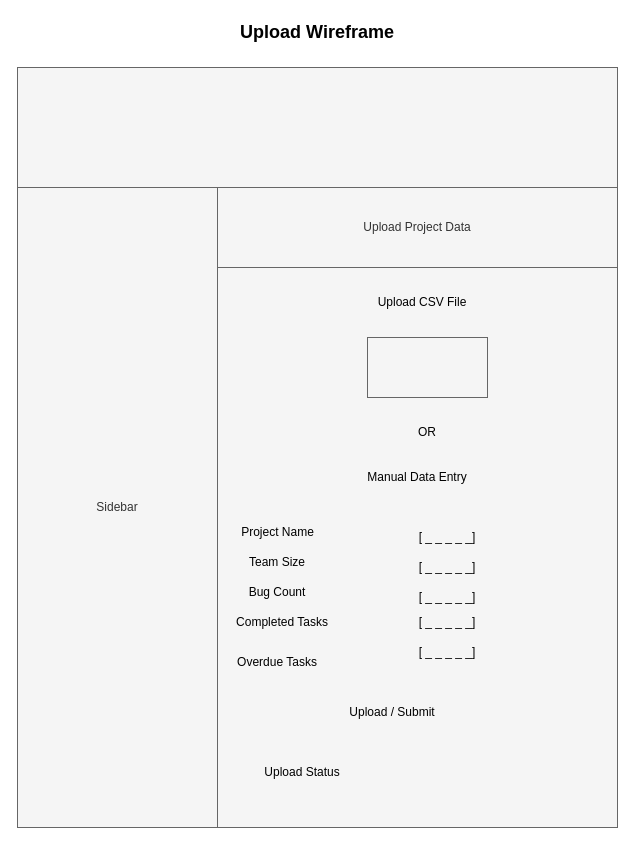
The diagram is 635 pixels wide and 845 high, and some of its shapes have lost their labels. The box of each missing label's shape, as (x1, y1, x2, y2) in pixels:
Choose File: (366, 336, 488, 398)
Top Navigation: (16, 66, 618, 188)
